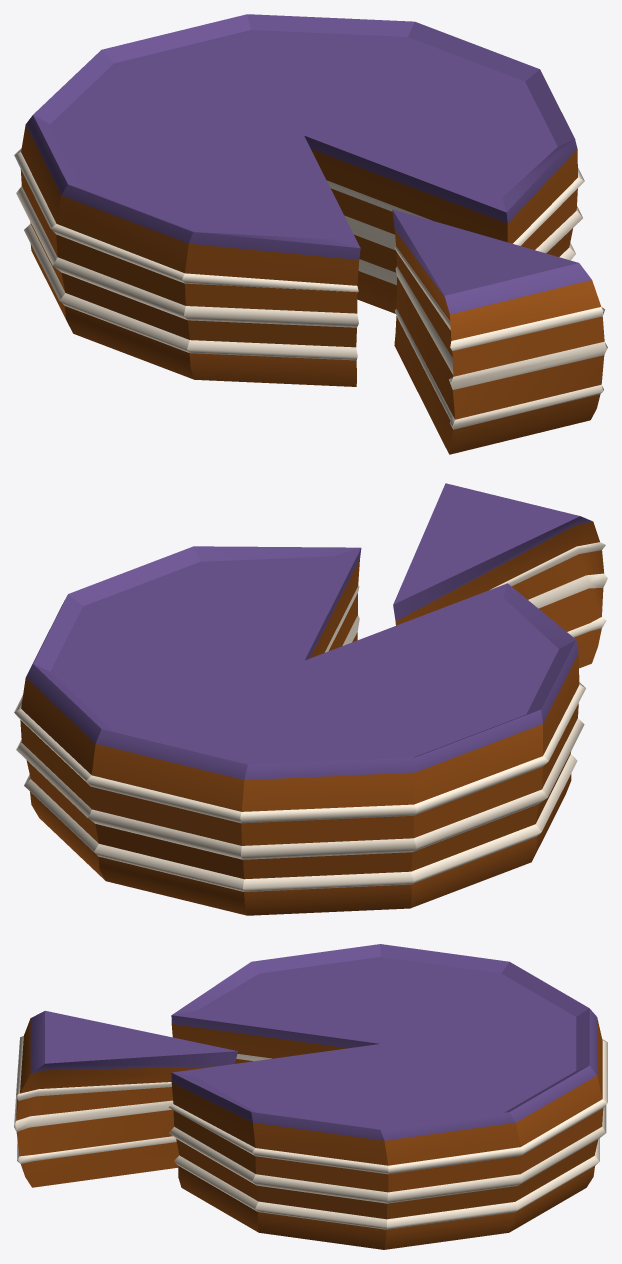
File: Layered_cake.fbx
3 renders of one model, top to bottom at view 1: azimuth 30°, elevation 25°; view 2: azimuth 150°, elevation 25°; view 3: azimuth 270°, elevation 25°, orthographic. The views are drawn at different scales.
Parts seen in each view (by area): view 1: Layerd_Cake; view 2: Layerd_Cake; view 3: Layerd_Cake.
Boxes of the visible parts, left/top/right/bottom form: Layerd_Cake: left=14, top=14, right=607, bottom=454; Layerd_Cake: left=14, top=483, right=607, bottom=915; Layerd_Cake: left=14, top=944, right=607, bottom=1249.
Size of the model in its own units: 2.28 by 0.6691 by 2.93.
